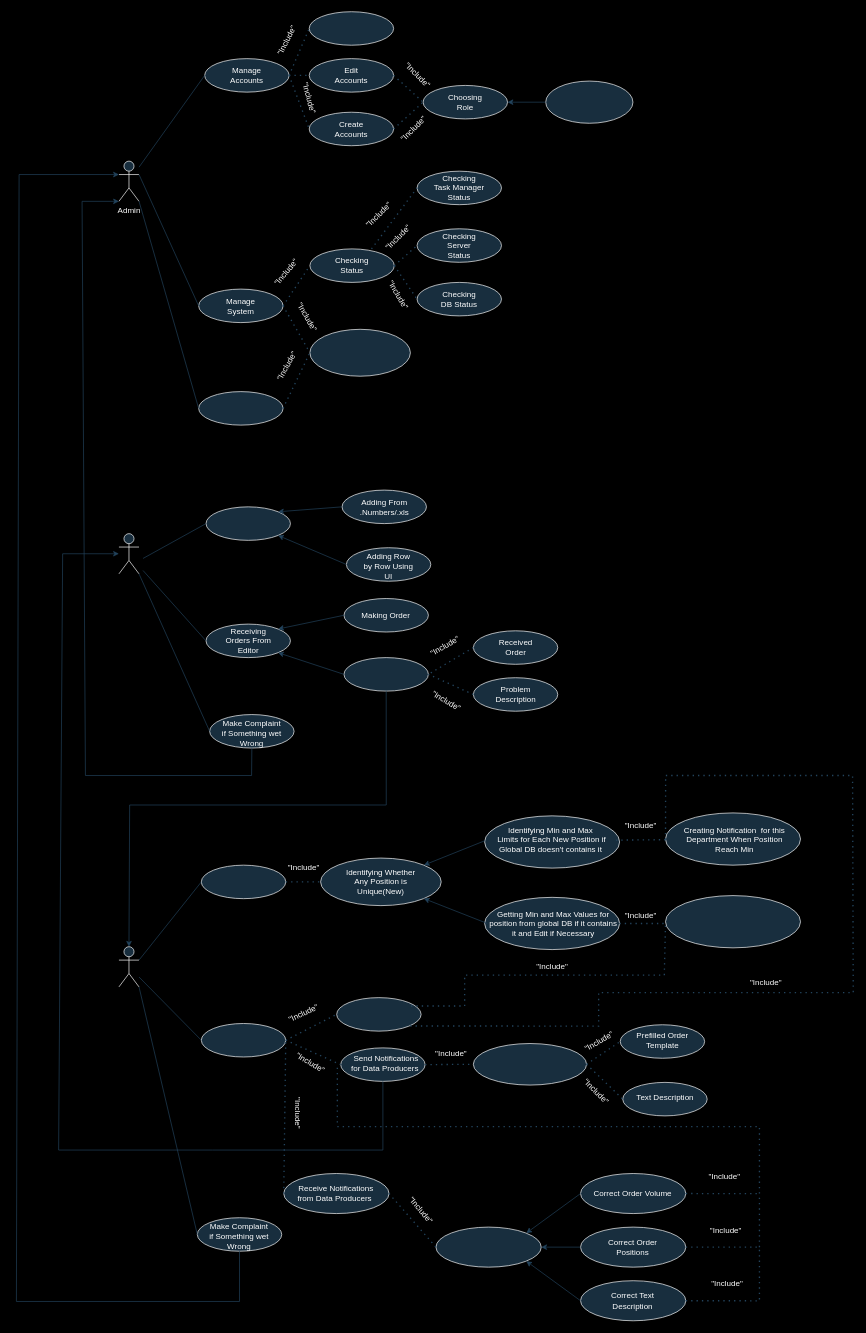
Some shapes in this 866 by 1333 pixel diagram are drawn without their labels. Here are the shapes that lost their labels. From the top down, the centre of each, then its label:
the point at 351,28: Delete Accounts
the point at 589,101: Creating Area of Responsibility (if Editor)
the point at 359,352: Notifying SysAdmins in Case of Trouble
the point at 240,408: Receiving User Complaints
the point at 247,523: Adding Data
the point at 128,553: Data Producer
the point at 385,674: Sending Order to Adjustment
the point at 243,882: Processing Data
the point at 733,921: Edit Notification for this Department if Necessary
the point at 128,966: Editor
the point at 378,1014: Create and Edit Notifications for self
the point at 243,1040: Working With Notifications
the point at 530,1064: Determine All Positions That Must be Bought and their Volume
the point at 488,1246: Familiarization With The Problem
